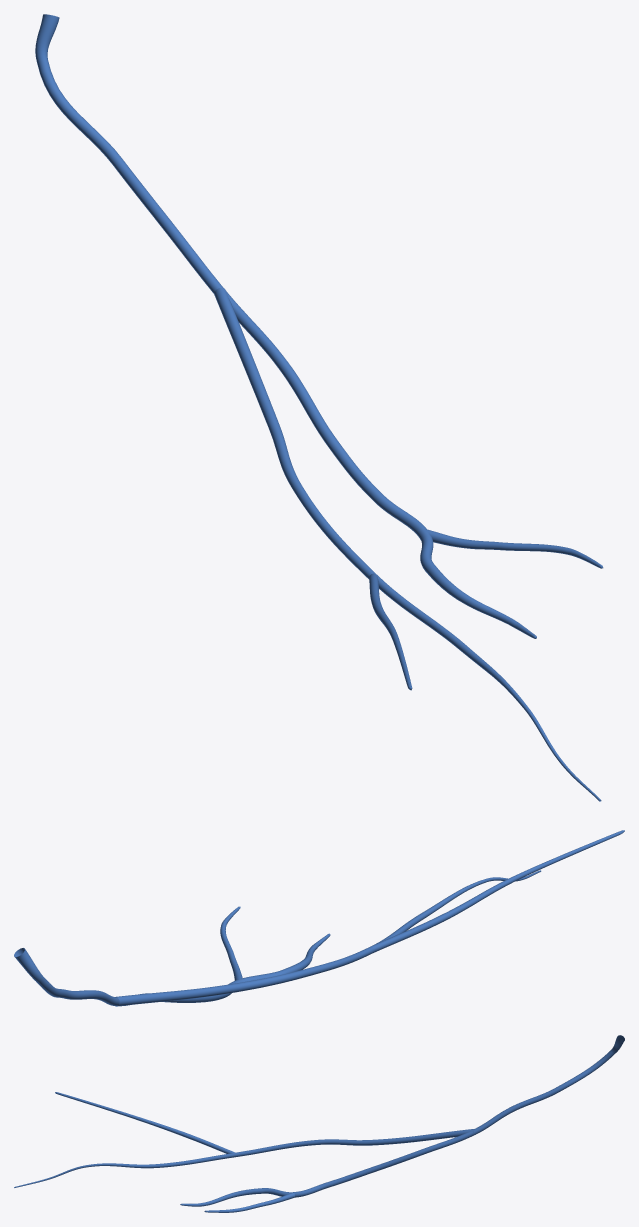
The picture shows the model from 3 angles, top to bottom: view 1: azimuth 30°, elevation 25°; view 2: azimuth 150°, elevation 25°; view 3: azimuth 270°, elevation 25°; orthographic projection. The views are drawn at different scales.
Visible parts, largest first — view 1: 右侧腹壁浅静脉; view 2: 右侧腹壁浅静脉; view 3: 右侧腹壁浅静脉.
Boxes of the visible parts, x1,y1,x2,y2 form: 右侧腹壁浅静脉: (35, 14, 603, 801); 右侧腹壁浅静脉: (14, 830, 624, 1006); 右侧腹壁浅静脉: (14, 1035, 624, 1212).
Size of the model in its own units: 0.1021 by 0.0942 by 0.3147.
